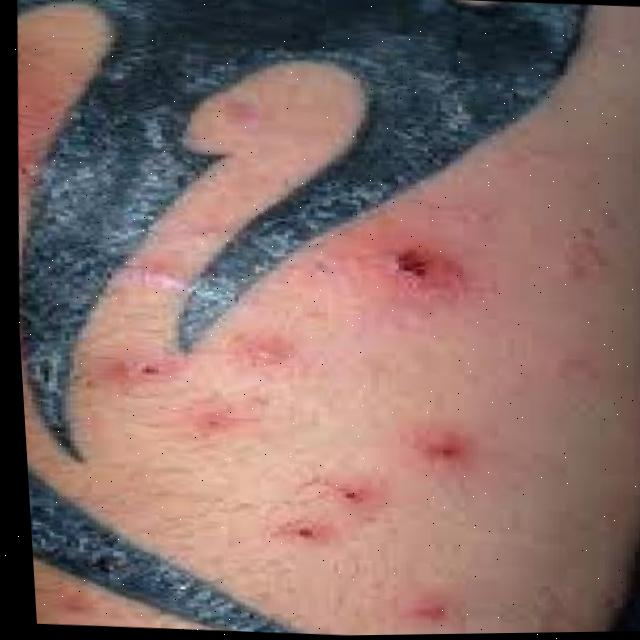Eczema: (101, 230, 521, 609)
